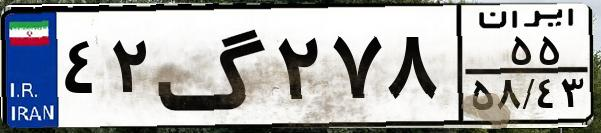2: (270, 28, 330, 110), (110, 28, 156, 98)
3: (560, 70, 590, 125)
4: (57, 26, 110, 100), (535, 70, 560, 125)
5: (537, 27, 568, 80), (508, 27, 537, 80), (470, 70, 495, 125)
7: (330, 28, 385, 110)
8: (385, 28, 445, 110), (495, 70, 520, 125)
گ: (156, 12, 270, 120)
